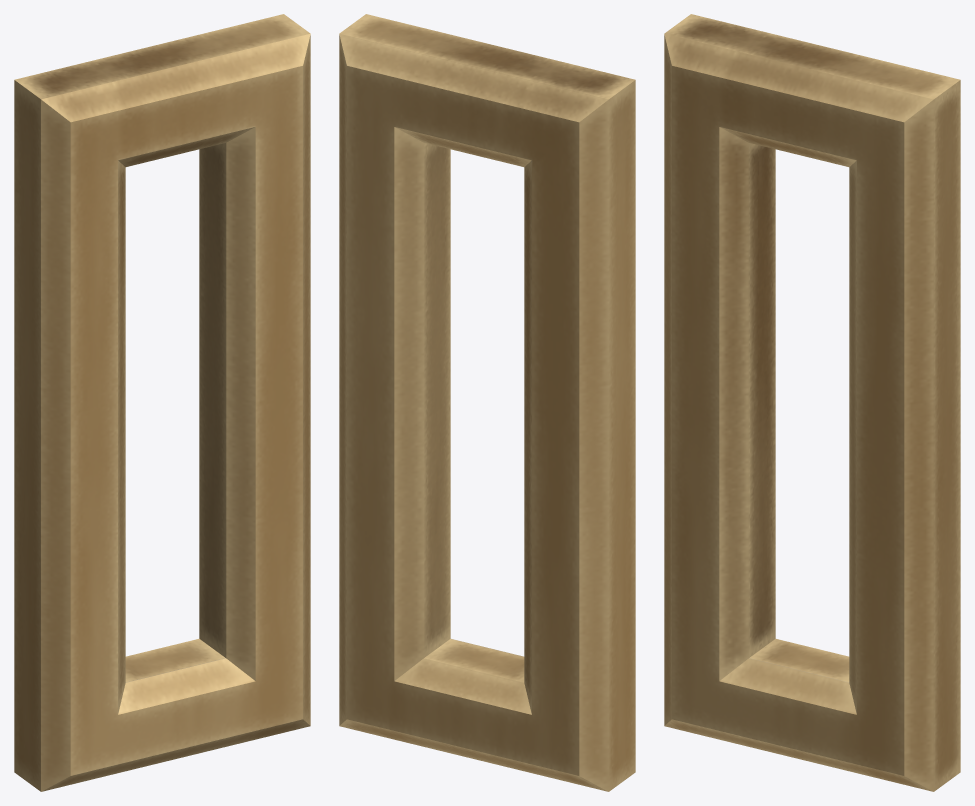
File: Warlink_ChainEndLink.fbx
The picture shows the model from 3 angles, left to right: view 1: azimuth 30°, elevation 25°; view 2: azimuth 150°, elevation 25°; view 3: azimuth 330°, elevation 25°; orthographic projection.
Visible parts, largest first — view 1: Warlink_ChainEndLink; view 2: Warlink_ChainEndLink; view 3: Warlink_ChainEndLink.
Part boxes in pixels (bbox=[...]): Warlink_ChainEndLink: bbox=[14, 14, 310, 791]; Warlink_ChainEndLink: bbox=[339, 14, 635, 791]; Warlink_ChainEndLink: bbox=[664, 14, 960, 791].
Bounding box in the file's own units: 0.11 × 0.27 × 0.0345.
